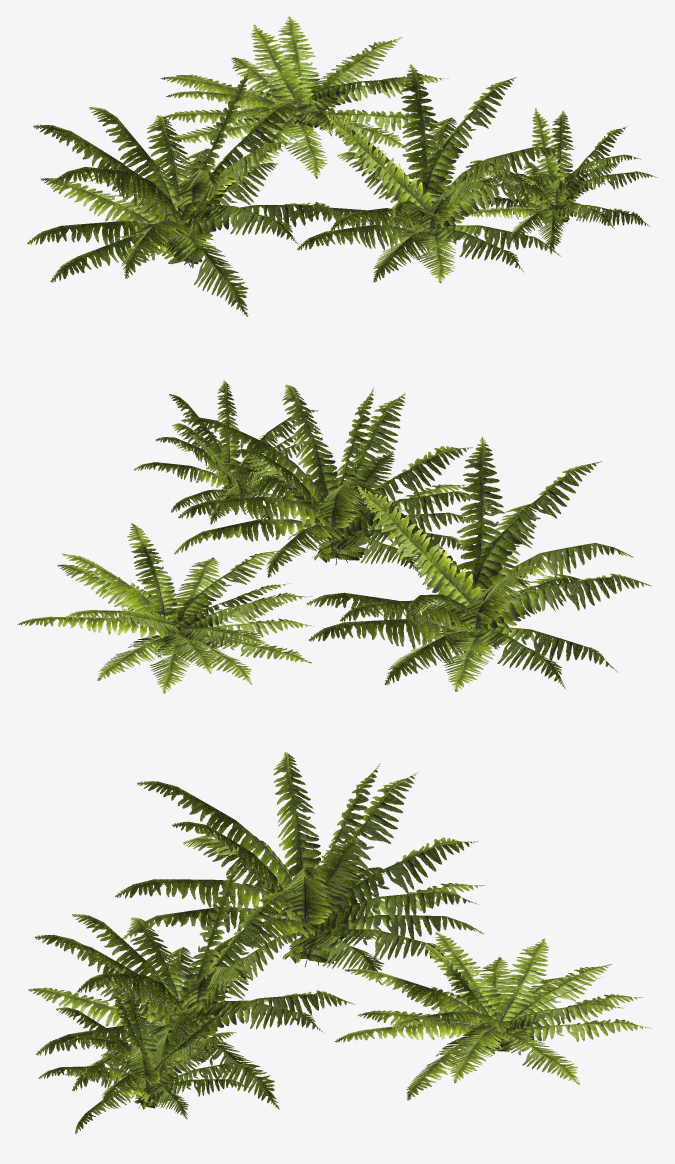
File: fern_grass_02.glb
3 renders of one model, top to bottom at view 1: azimuth 30°, elevation 25°; view 2: azimuth 150°, elevation 25°; view 3: azimuth 270°, elevation 25°, orthographic. The views are drawn at different scales.
Visible parts, largest first — view 1: Fern grass; view 2: Fern grass; view 3: Fern grass.
Boxes of the visible parts, <box> form: Fern grass: <box>27,16,657,316</box>; Fern grass: <box>17,380,652,693</box>; Fern grass: <box>28,752,650,1133</box>.
Size of the model in its own units: 59.23 by 19.28 by 55.05.
1 material, 1 textured.
